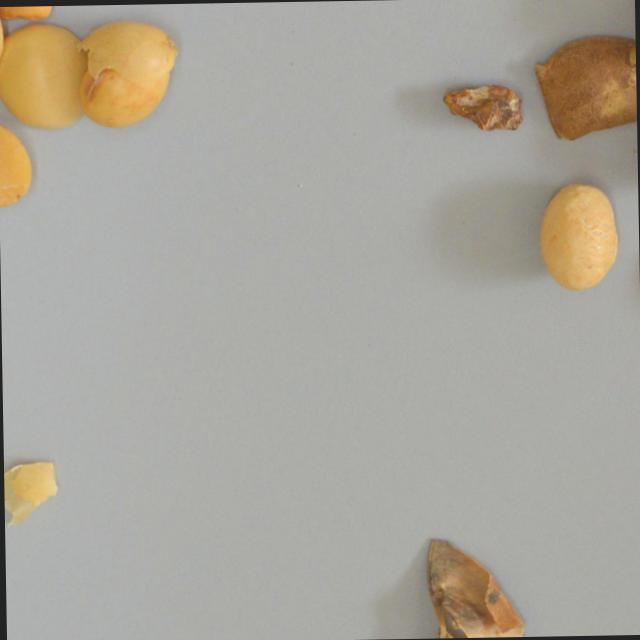cuerpos_extranos: (415, 526, 527, 638), (527, 37, 637, 144), (74, 20, 177, 129), (0, 23, 94, 135), (532, 176, 619, 291), (439, 78, 522, 135), (2, 457, 63, 528), (0, 120, 36, 216), (0, 5, 53, 34)
